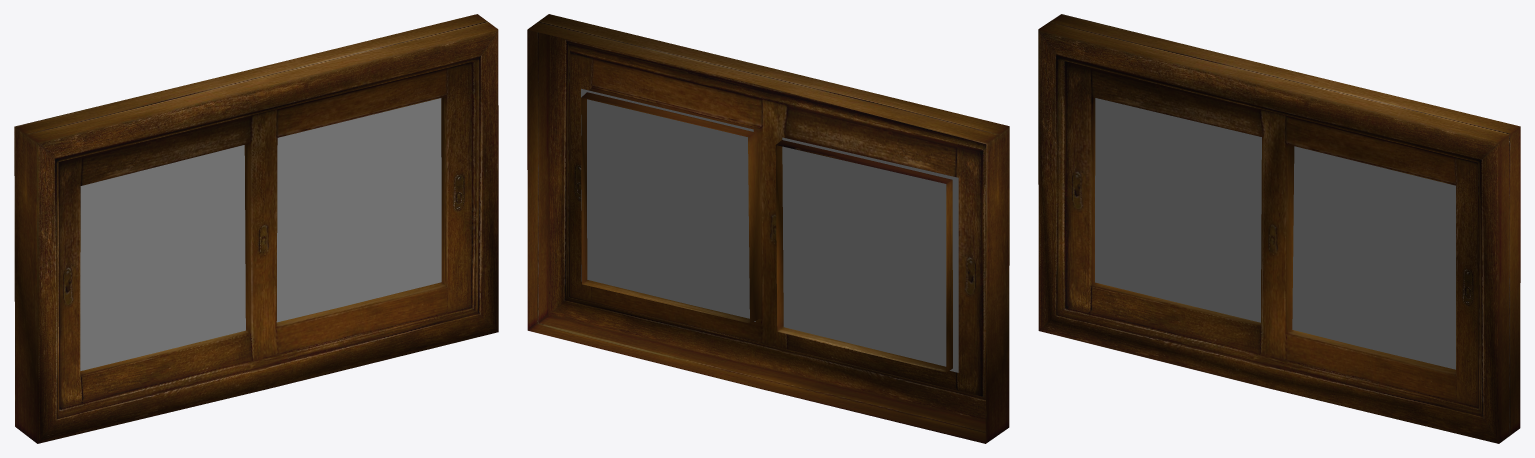
File: stage4_window.fbx
3 renders of one model, left to right at view 1: azimuth 30°, elevation 25°; view 2: azimuth 150°, elevation 25°; view 3: azimuth 330°, elevation 25°, orthographic.
Visible parts, largest first — view 1: stage4_window; view 2: stage4_window; view 3: stage4_window.
Boxes of the visible parts, bbox=[...] form: stage4_window: bbox=[14, 14, 498, 443]; stage4_window: bbox=[527, 14, 1009, 443]; stage4_window: bbox=[1038, 14, 1520, 443].
Size of the model in its own units: 109 by 68.27 by 9.77.
